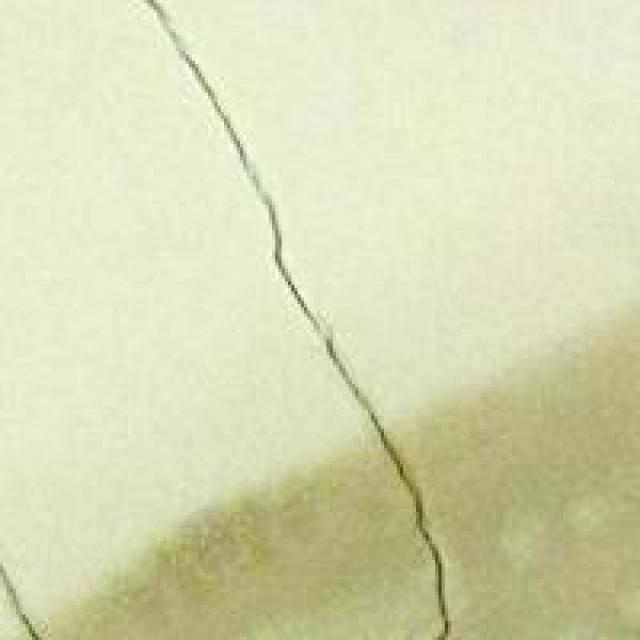crack: (144, 9, 448, 636)
